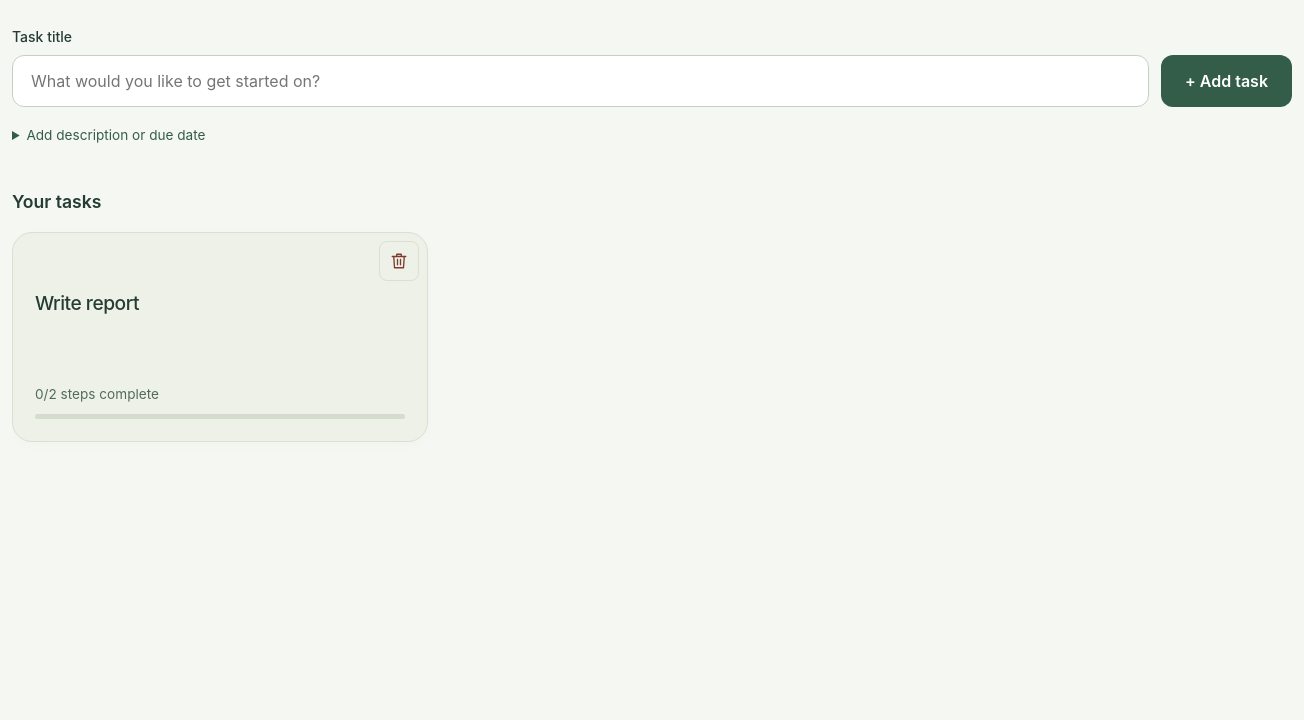
Test: compact timer completion leaves the current step incomplete
Step 1. Click the button "Write report 0/2 steps complete" → (87, 303), box [13,233,427,441]
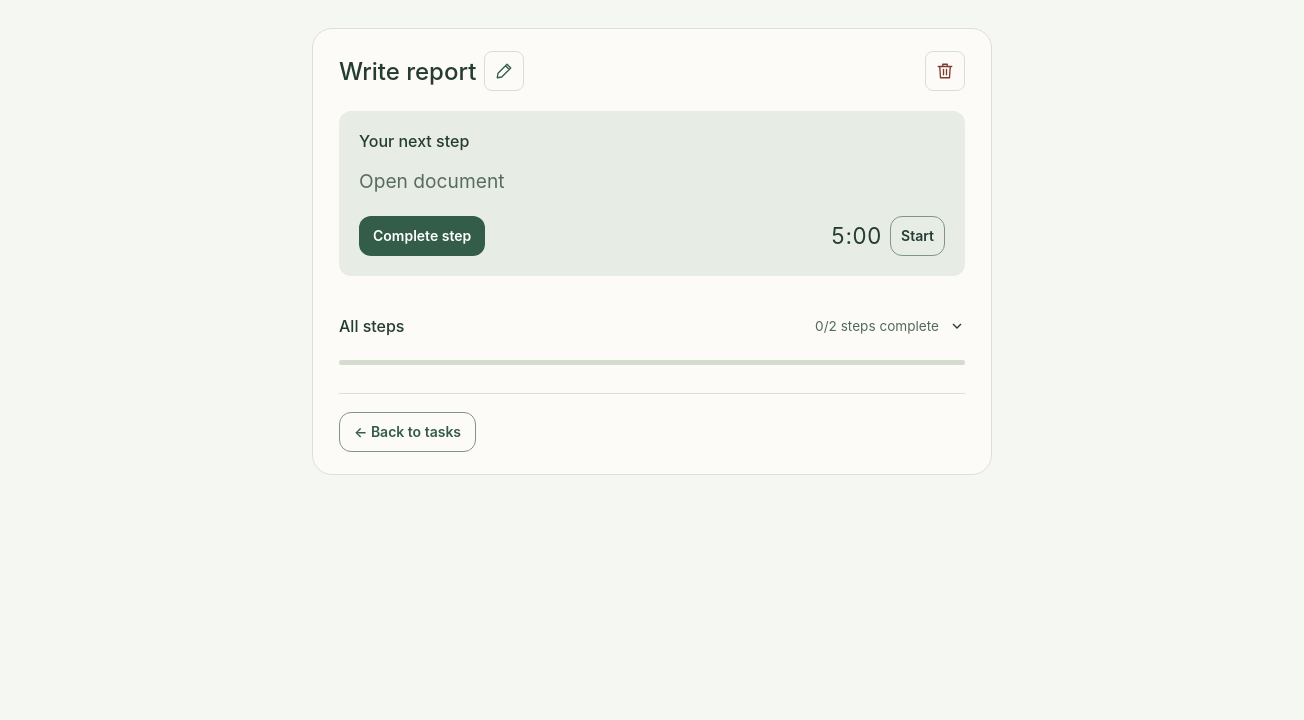
Expected: the button "Complete step" is shown, [359,216,485,256]
Expected: the element named "Five-minute focus timer" is shown, [831,216,945,256]
Step 2. Click the button with aria-label "Start 5-minute focus" → (918, 236), box [890,216,945,256]
Wait 300000 ms
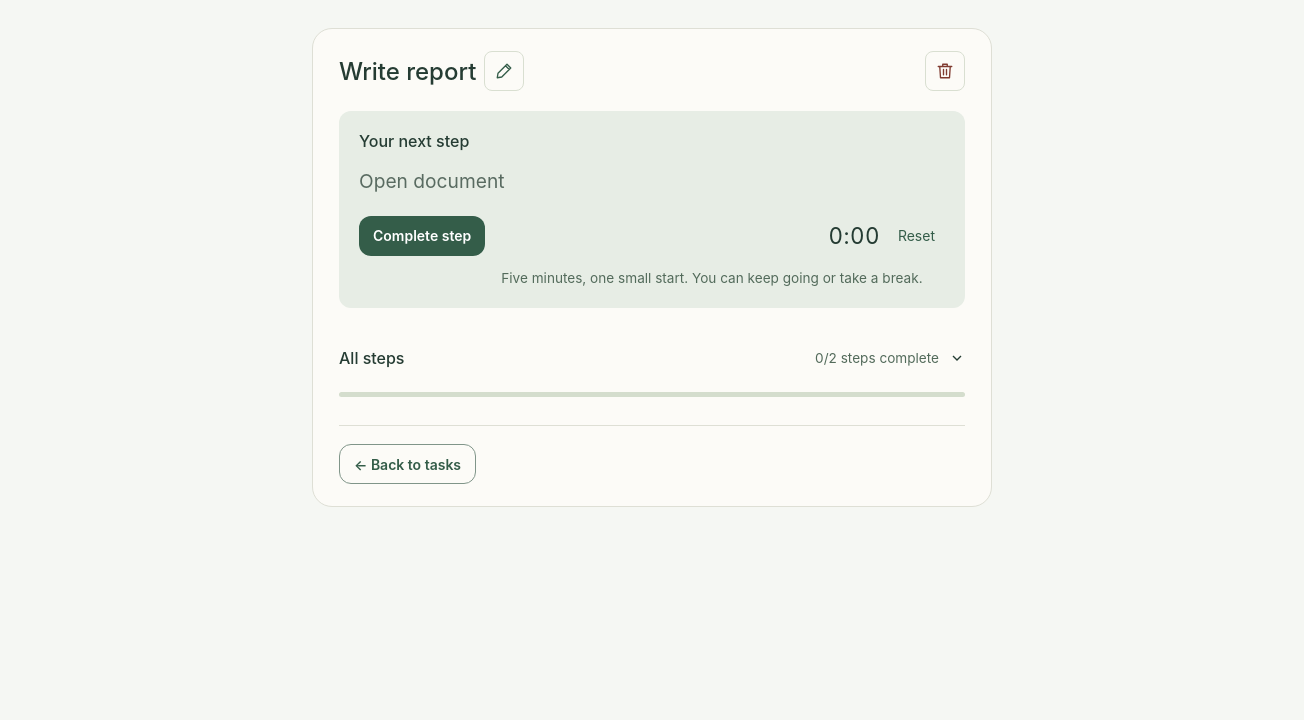
Expected: the text "Open document" is shown, [359,169,504,193]
Expected: the text "0:00" is shown, [828,222,880,249]
Expected: the message shows "keep going or take a break", [501,270,923,286]
